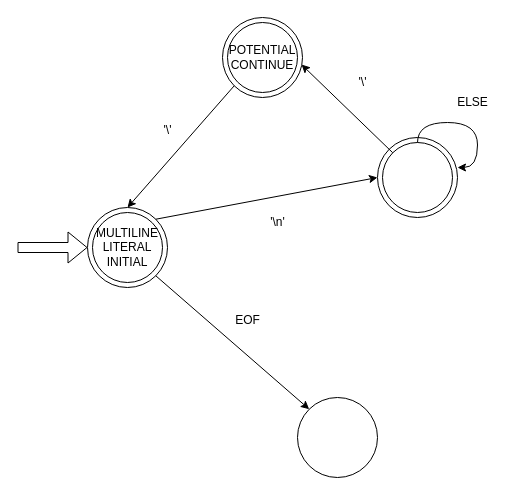
Image size: 514x495. Some labels were removed from this diagram. Each missing label, with the box of its shape:
ERROR: (296, 396, 378, 478)
NEWLINE: (376, 136, 458, 218)
